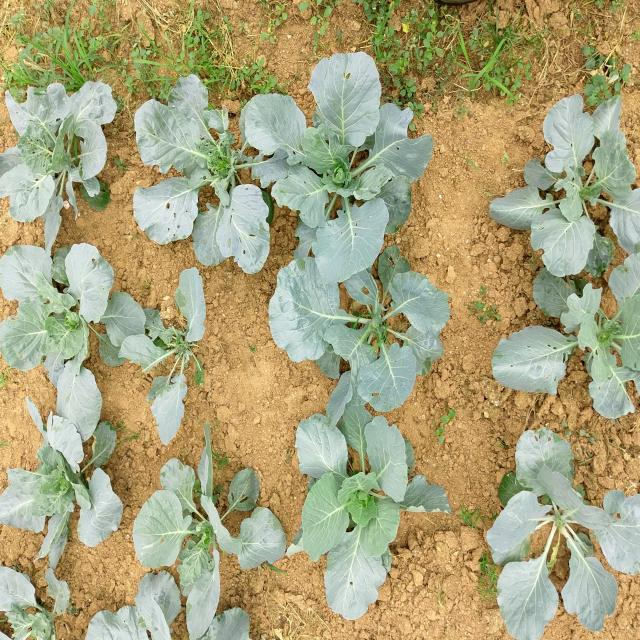Cabbage: (248, 35, 435, 298), (253, 226, 452, 440), (486, 158, 640, 428), (482, 424, 640, 640), (132, 64, 286, 279), (489, 81, 640, 283), (298, 406, 440, 614), (0, 223, 139, 419), (0, 383, 125, 569), (0, 68, 119, 238), (130, 443, 222, 640), (120, 260, 210, 446), (0, 549, 37, 640)
